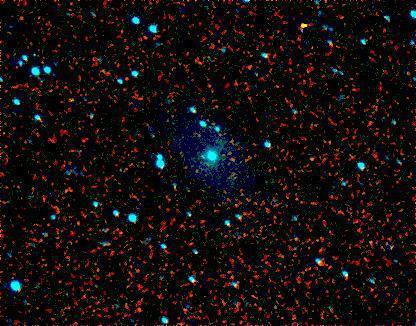star: (290, 13, 320, 43)
